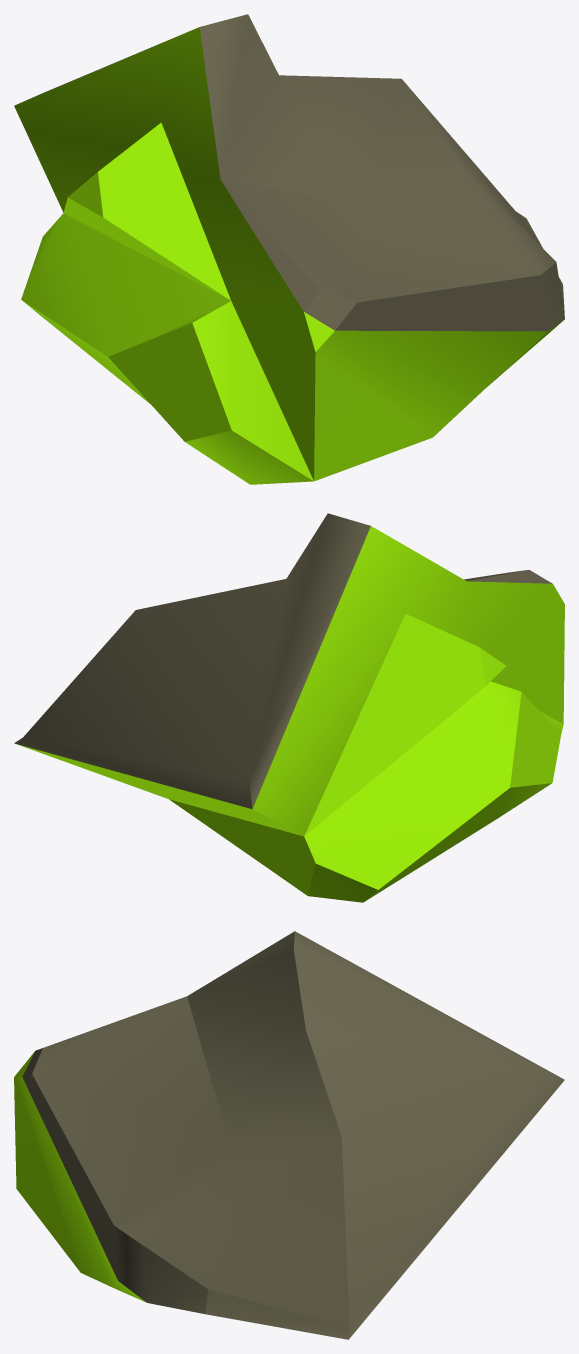
Rendered from p_mesh_hammer_disconite_chunk01.fbx.
3 renders of one model, top to bottom at view 1: azimuth 30°, elevation 25°; view 2: azimuth 150°, elevation 25°; view 3: azimuth 270°, elevation 25°, orthographic. The views are drawn at different scales.
Parts seen in each view (by area): view 1: p_mesh_hammer_disconite_chunk01; view 2: p_mesh_hammer_disconite_chunk01; view 3: p_mesh_hammer_disconite_chunk01.
Part boxes in pixels (left/top/right/bottom): p_mesh_hammer_disconite_chunk01: left=14, top=14, right=564, bottom=484; p_mesh_hammer_disconite_chunk01: left=14, top=513, right=564, bottom=902; p_mesh_hammer_disconite_chunk01: left=14, top=931, right=564, bottom=1339.
Size of the model in its own units: 0.9504 by 0.7776 by 1.09.
